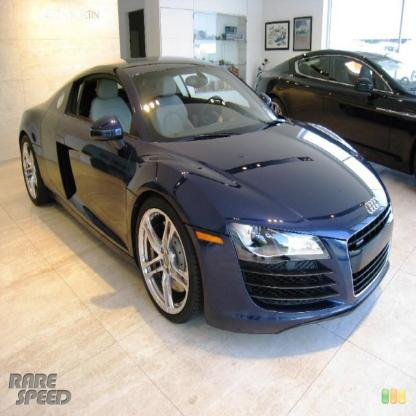Vehicle: (17, 55, 390, 332)
